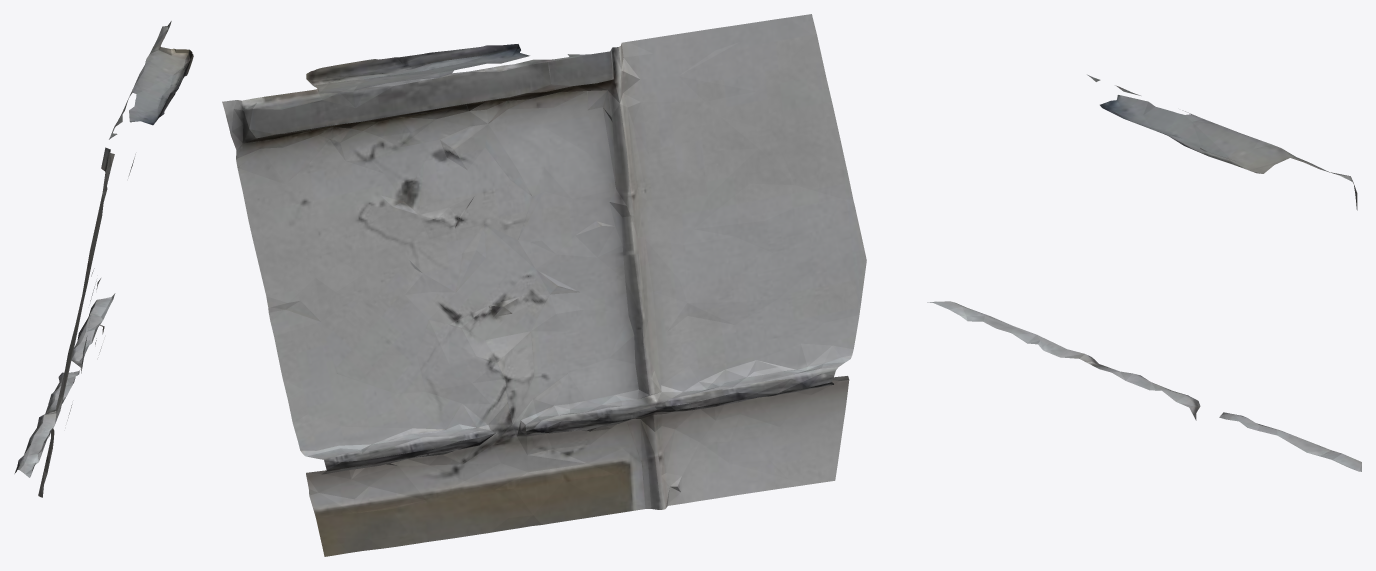
3 views of the same model, side by side, from view 1: azimuth 30°, elevation 25°; view 2: azimuth 150°, elevation 25°; view 3: azimuth 270°, elevation 25° (orthographic). The views are drawn at different scales.
Bounding box in the file's own units: 1.66 × 1.67 × 1.67.
3 materials, 3 textured.
